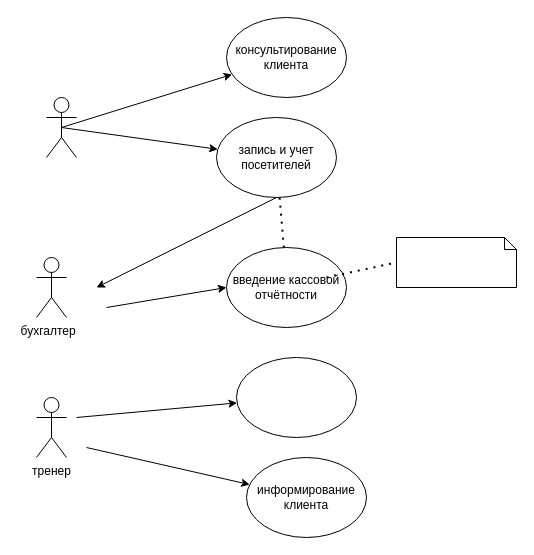
Some shapes in this 534 by 555 pixel diagram are drawn without their labels. Here are the shapes that lost their labels. From the top down, the centre of each, then its label:
the point at 61,127: администратор
the point at 456,262: после оплаты клентом
the point at 296,397: проведение тренировки
